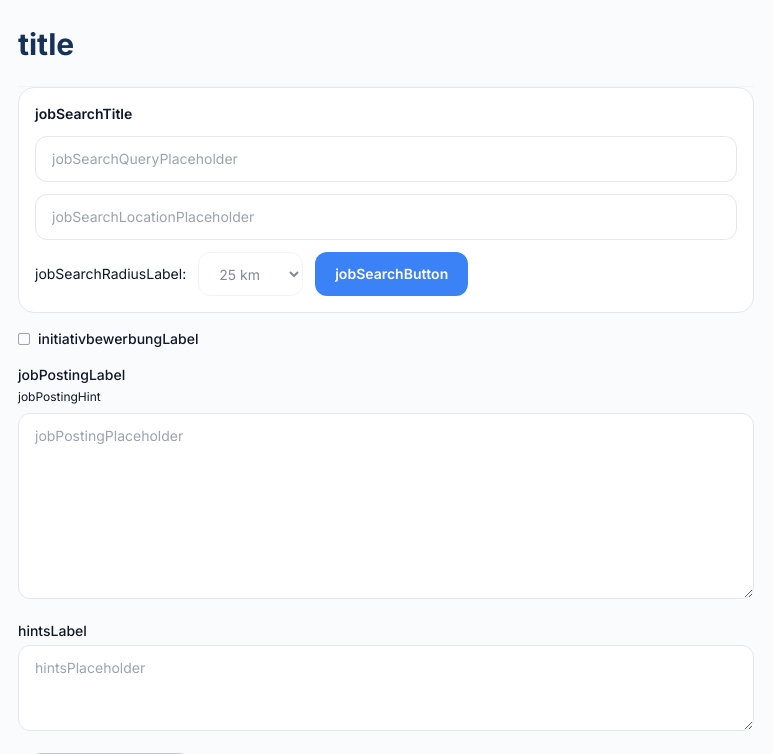
Test: GenerateForm › Button-Zustand › Button ist aktiv wenn Stellenanzeige ausgefüllt und Profil vorhanden
Type "Wir suchen einen Entwickler" into the text box labelled "jobPostingLabel" at (386, 506), box [18,413,754,599]
(page scrolled)
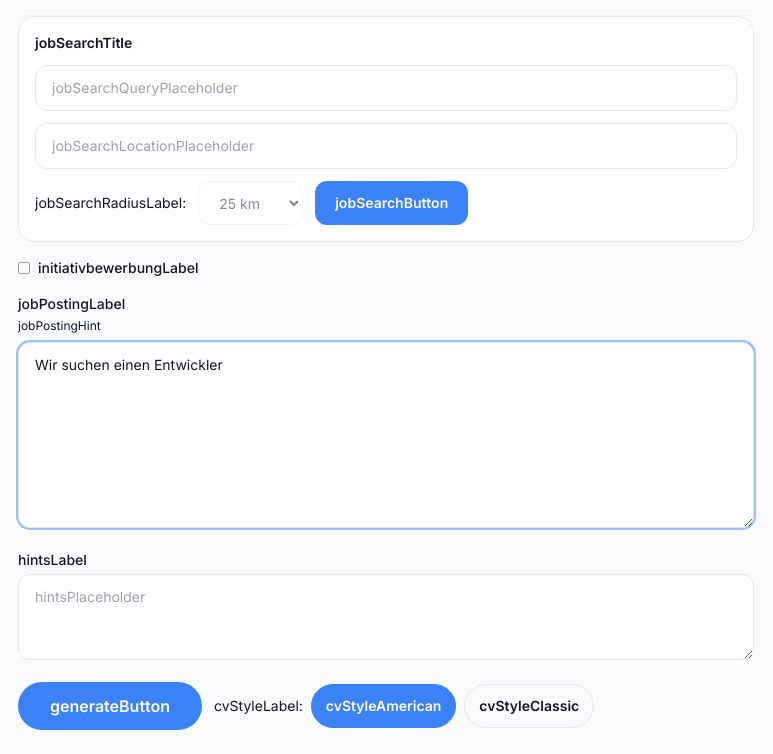
Expected: the button "generateButton" is enabled, [18,682,202,730]
